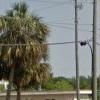Palm tree: (4, 4, 54, 99)
